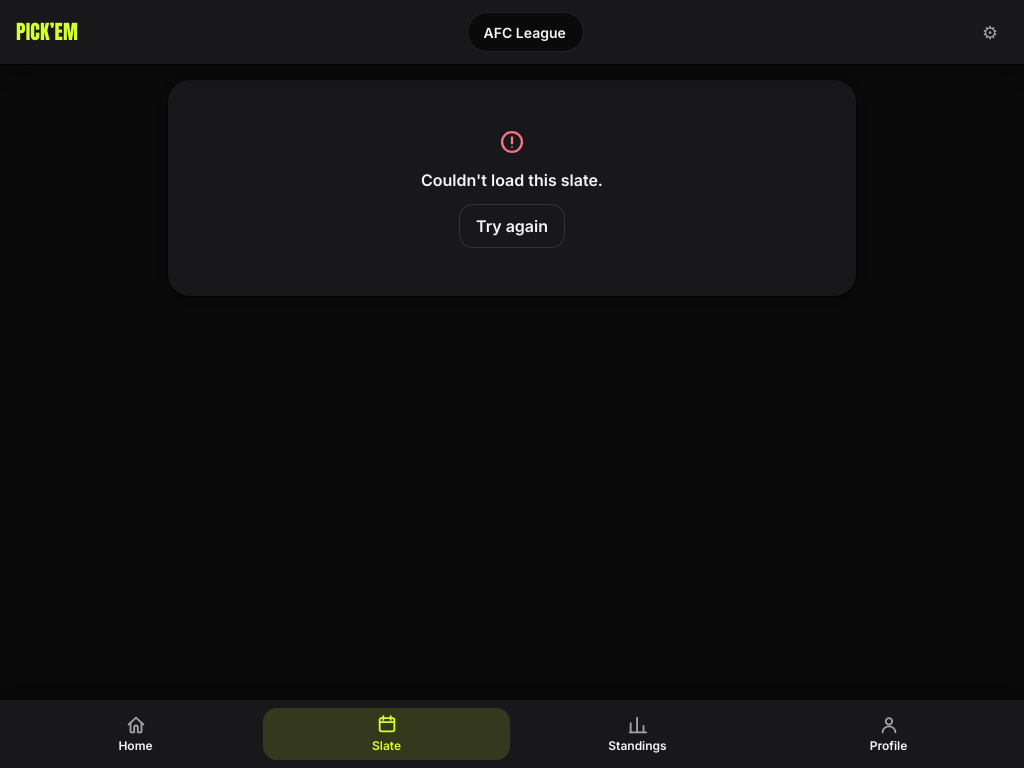
Test: SlateScreen › shows an error state with retry on load failure
Expected: the text "Couldn't load this slate." is shown, [421,168,603,192]
What coordinates should you click on to do the following:
click the button "Try again"
I would click on:
 (512, 226)
Its box is [459,204,565,248].
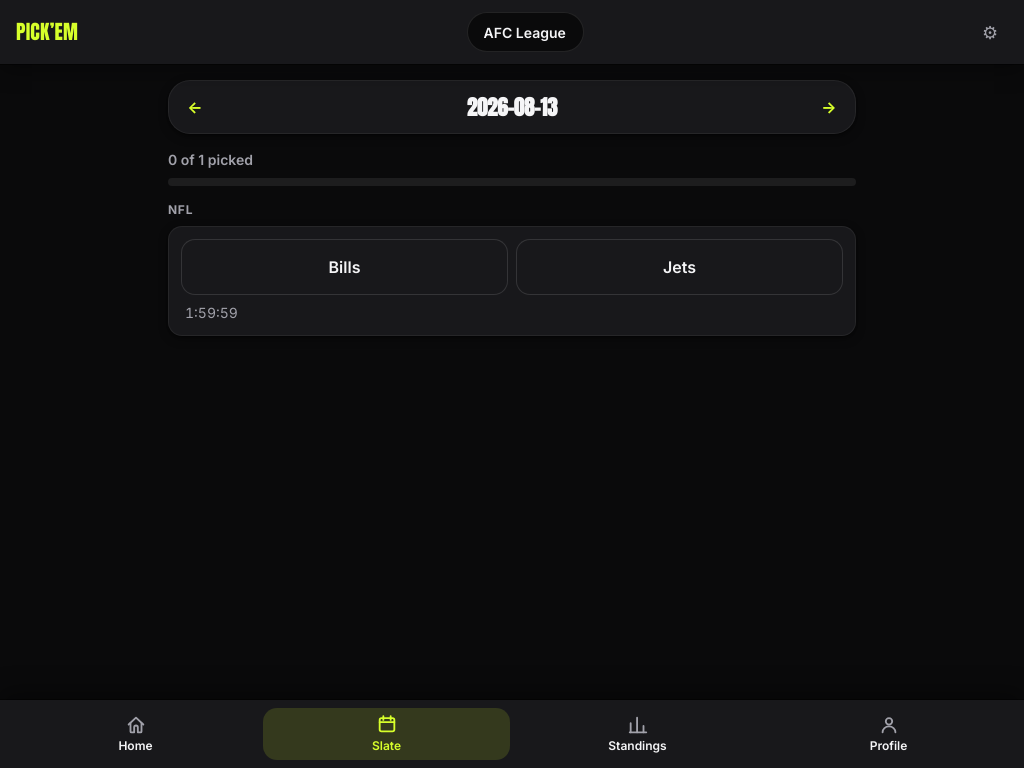
Expected: the radio button labelled "Bills" is shown, [181,239,508,295]
